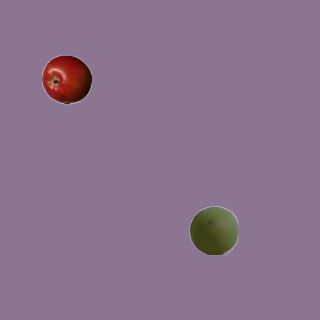Apple Braeburn: (41, 54, 91, 104)
Grape White 4: (188, 205, 238, 255)
